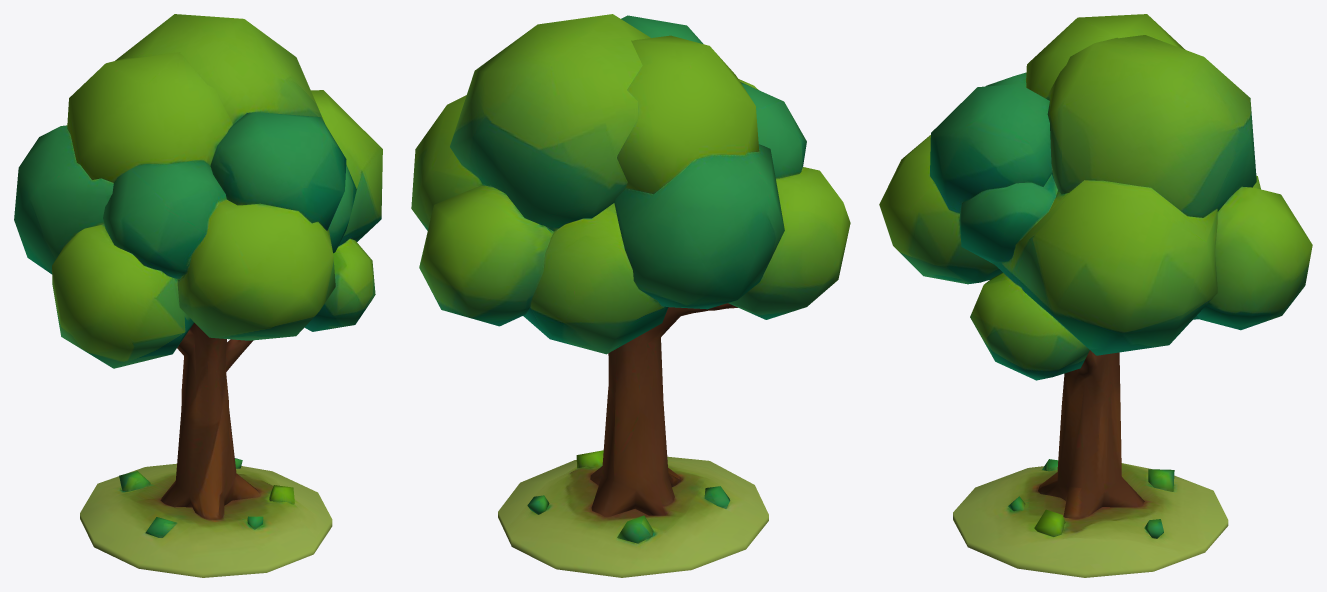
File: selected.glb
The picture shows the model from 3 angles, left to right: view 1: azimuth 30°, elevation 25°; view 2: azimuth 150°, elevation 25°; view 3: azimuth 270°, elevation 25°; orthographic projection. The views are drawn at different scales.
Parts seen in each view (by area): view 1: tripo_node_fa536e1b-01cf-4e57-83f6-18a9f753d7b5; view 2: tripo_node_fa536e1b-01cf-4e57-83f6-18a9f753d7b5; view 3: tripo_node_fa536e1b-01cf-4e57-83f6-18a9f753d7b5.
Part boxes in pixels (<box>): tripo_node_fa536e1b-01cf-4e57-83f6-18a9f753d7b5: <box>14,14,382,577</box>; tripo_node_fa536e1b-01cf-4e57-83f6-18a9f753d7b5: <box>411,14,850,577</box>; tripo_node_fa536e1b-01cf-4e57-83f6-18a9f753d7b5: <box>879,14,1312,577</box>.
Bounding box in the file's own units: 0.7754 × 0.998 × 0.8027.
Materials: 1 (1 with a texture image).
